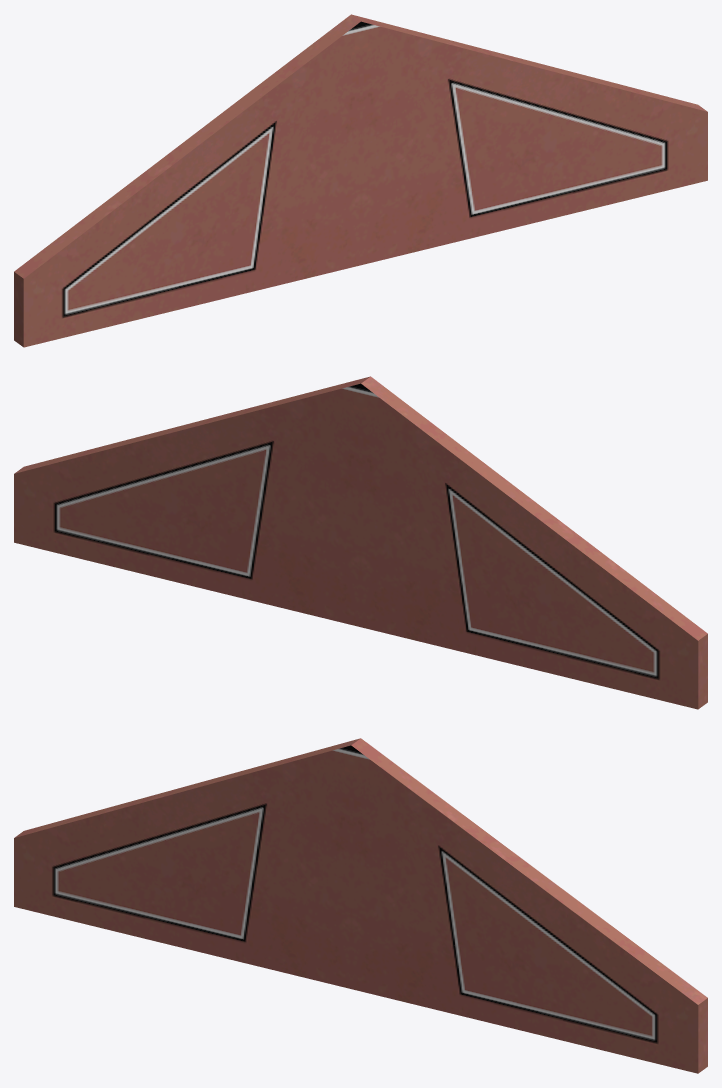
Rendered from SM_TopWall03F.fbx.
3 views of the same model, one above another, from view 1: azimuth 30°, elevation 25°; view 2: azimuth 150°, elevation 25°; view 3: azimuth 330°, elevation 25° (orthographic).
Visible parts, largest first — view 1: SM_TopWall03F; view 2: SM_TopWall03F; view 3: SM_TopWall03F.
Part boxes in pixels (bbox=[...]): SM_TopWall03F: bbox=[14, 14, 707, 347]; SM_TopWall03F: bbox=[14, 376, 707, 709]; SM_TopWall03F: bbox=[14, 738, 707, 1073].
Bounding box in the file's own units: 209 × 5.2 × 71.3.
1 material, 1 textured.
